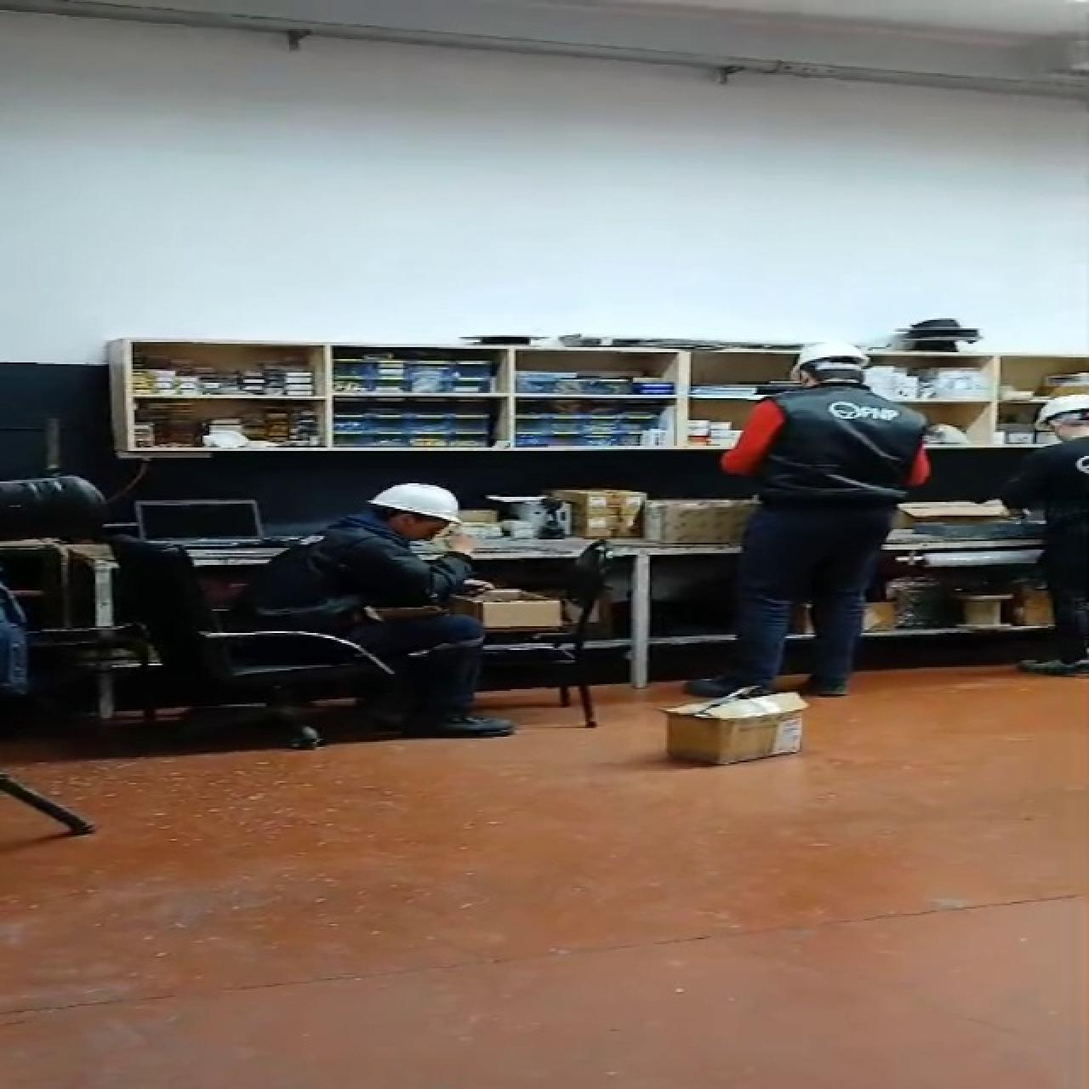NO_Safety_Vest: (231, 520, 415, 635), (774, 386, 914, 522), (1040, 442, 1089, 531)
Person: (687, 318, 933, 709), (222, 469, 542, 748), (992, 374, 1089, 677)
